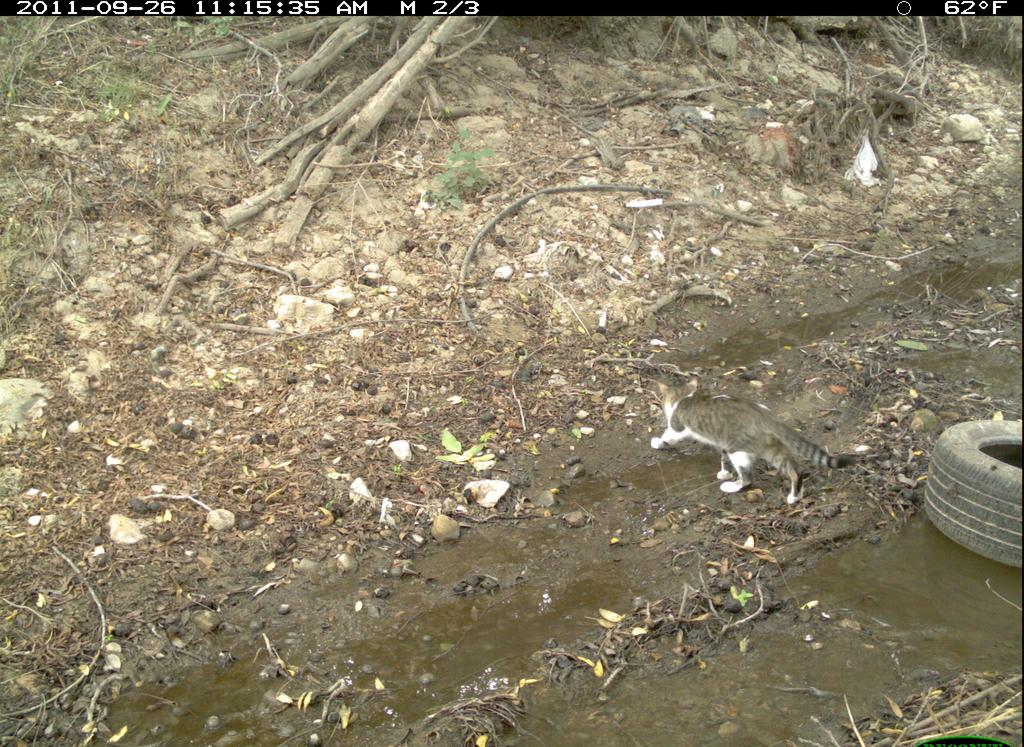cat: (650, 379, 856, 506)
